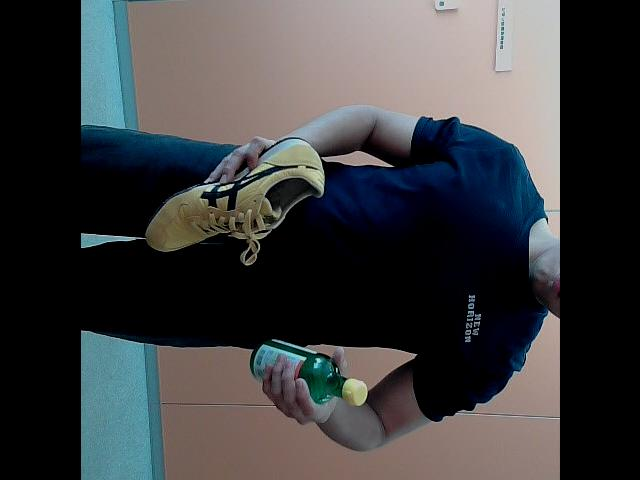Lemon_sapporo: (245, 338, 368, 407)
Shoes: (143, 134, 327, 258)
